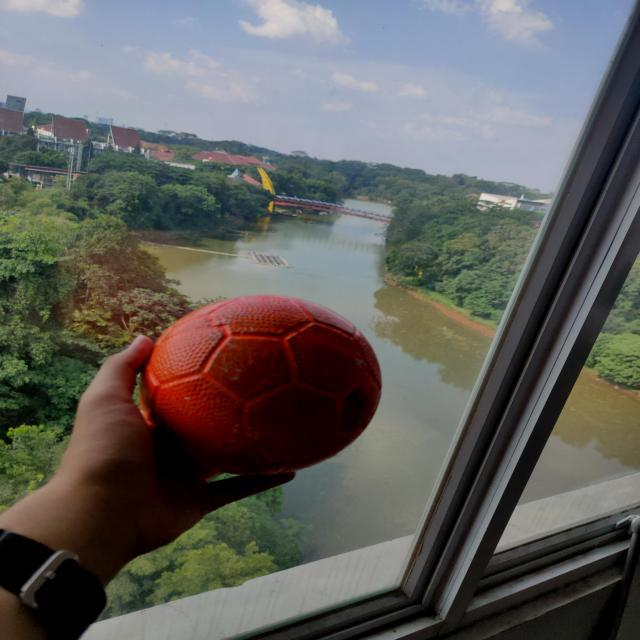bola: (120, 272, 404, 486)
